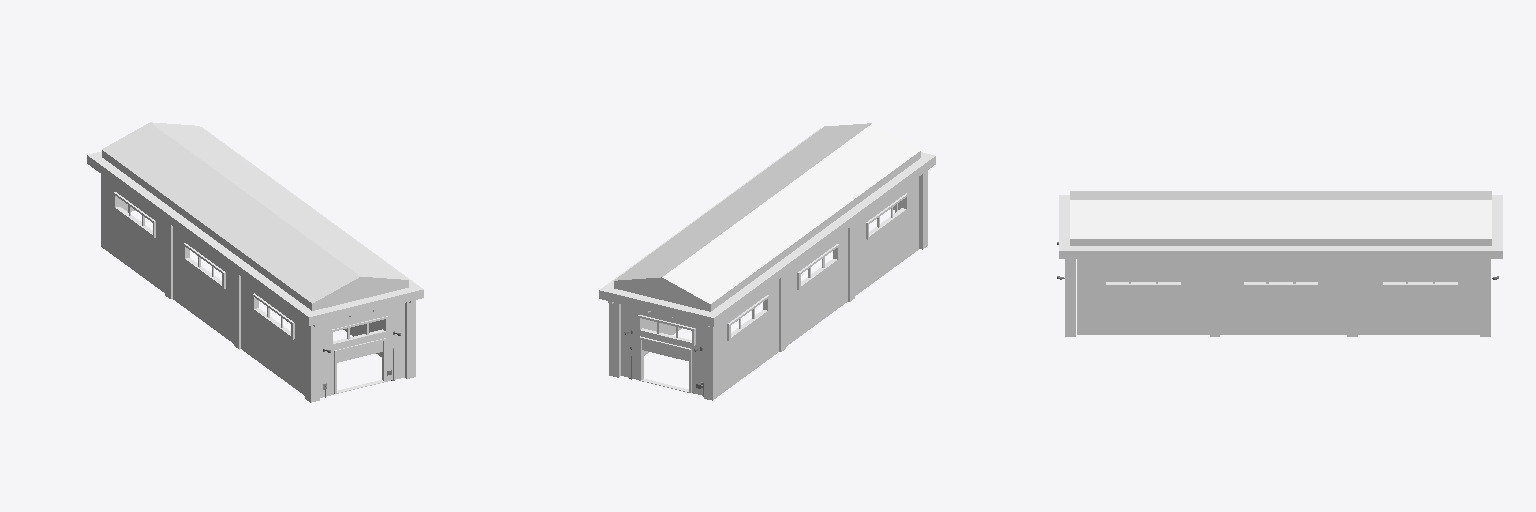
Rendered from ind6_hall3.obj.
3 views of the same model, side by side, from view 1: azimuth 30°, elevation 25°; view 2: azimuth 150°, elevation 25°; view 3: azimuth 270°, elevation 25° (orthographic).
Parts seen in each view (by area): view 1: Mesh; view 2: Mesh; view 3: Mesh.
Part boxes in pixels (x1,y1,x2,y2): Mesh: (87,122,423,402); Mesh: (599,123,935,400); Mesh: (1057,191,1502,336).
Size of the model in its own units: 12.28 by 11.47 by 41.29.